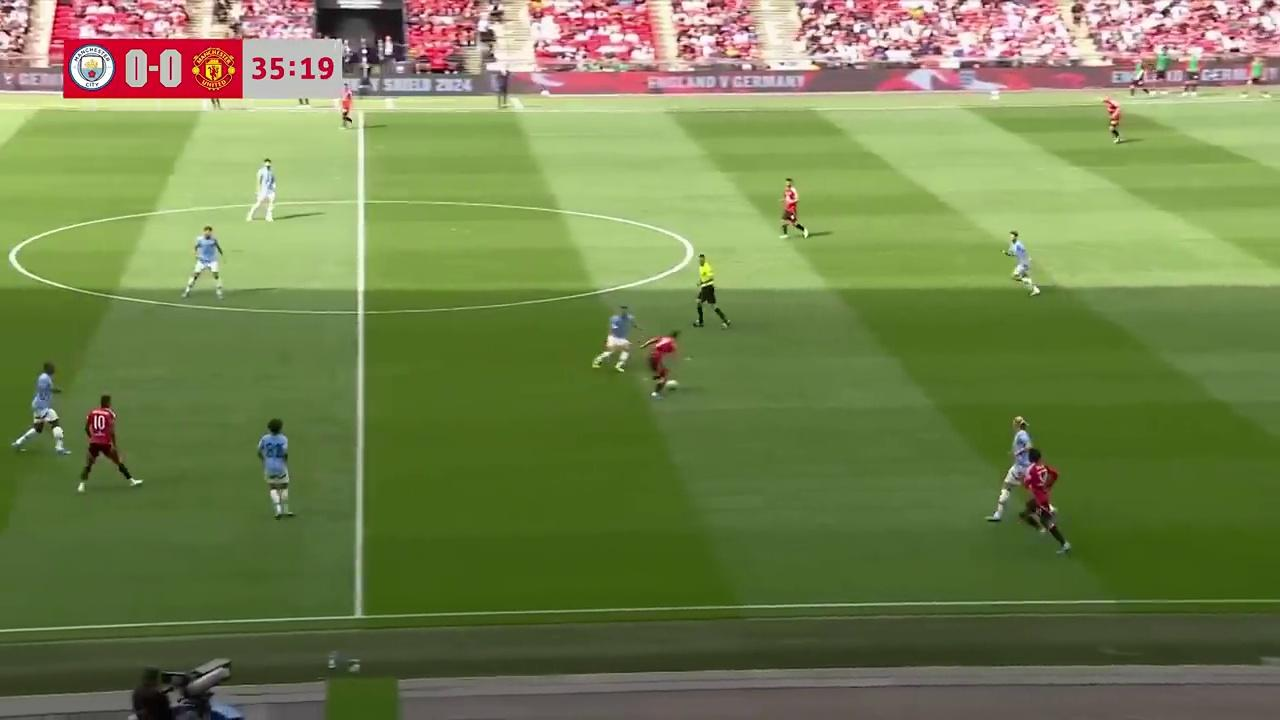ball: (664, 373, 680, 393)
player: (75, 395, 144, 494), (11, 361, 70, 455), (1019, 449, 1071, 555), (986, 415, 1036, 522), (256, 418, 294, 520), (591, 304, 639, 372), (642, 330, 688, 399), (182, 225, 224, 300), (1002, 229, 1040, 296), (245, 158, 277, 223), (778, 178, 809, 239), (1102, 95, 1124, 144), (337, 84, 355, 128)
referee: (691, 252, 731, 329)
